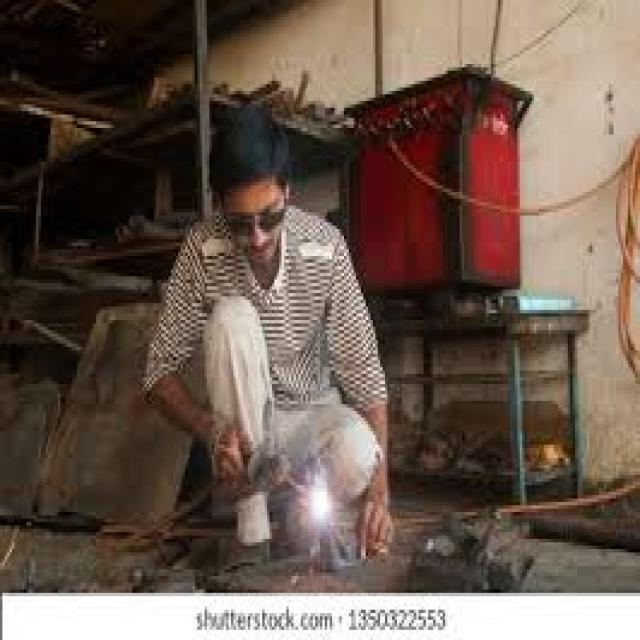without_helmet: (179, 119, 332, 275)
